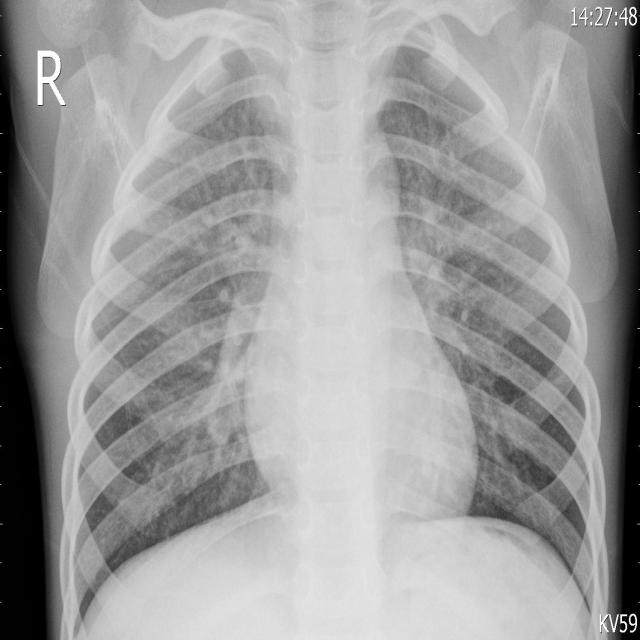low-pneumonia: (181, 212, 267, 443), (400, 171, 490, 374)
